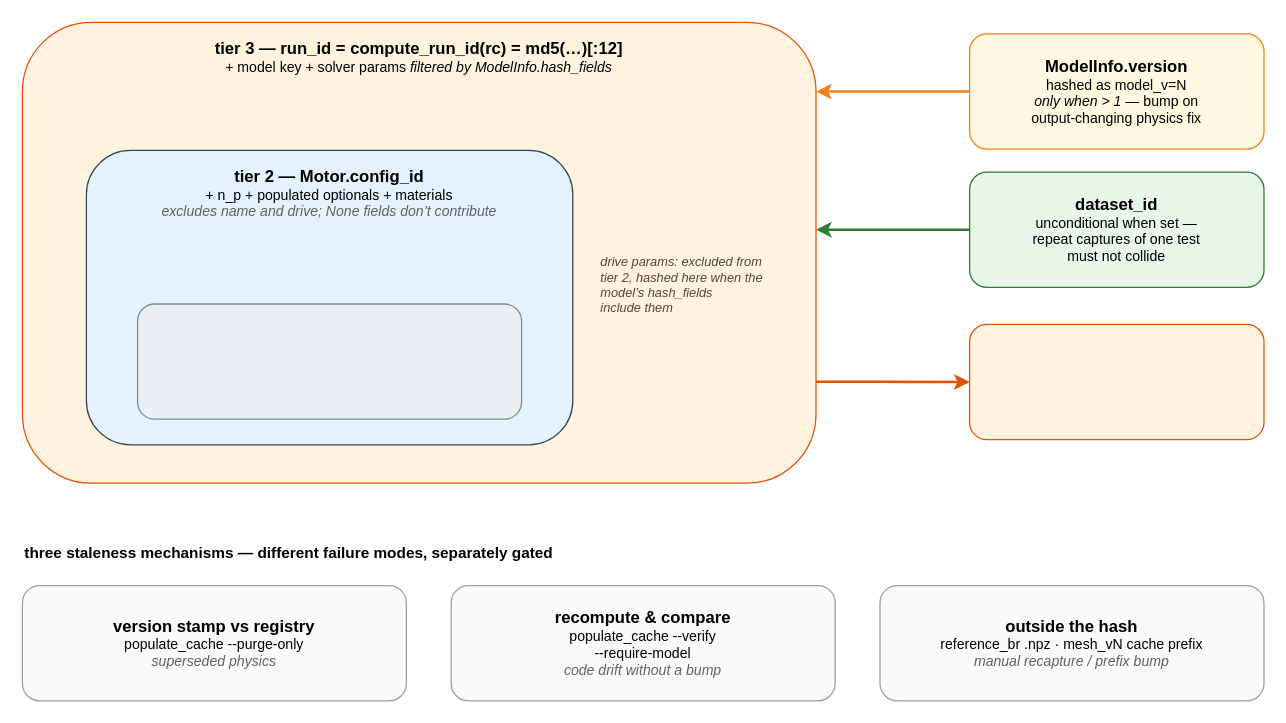
This 1286x723 diagram has some shape labels left out. The box of each missing label's shape, as (x1, y1, x2, y2) in pixels:
ResultStore run_id keys the record + index: (968, 323, 1264, 440)
tier 1 — Geometry.config_id all geometry fields: (136, 303, 522, 419)
